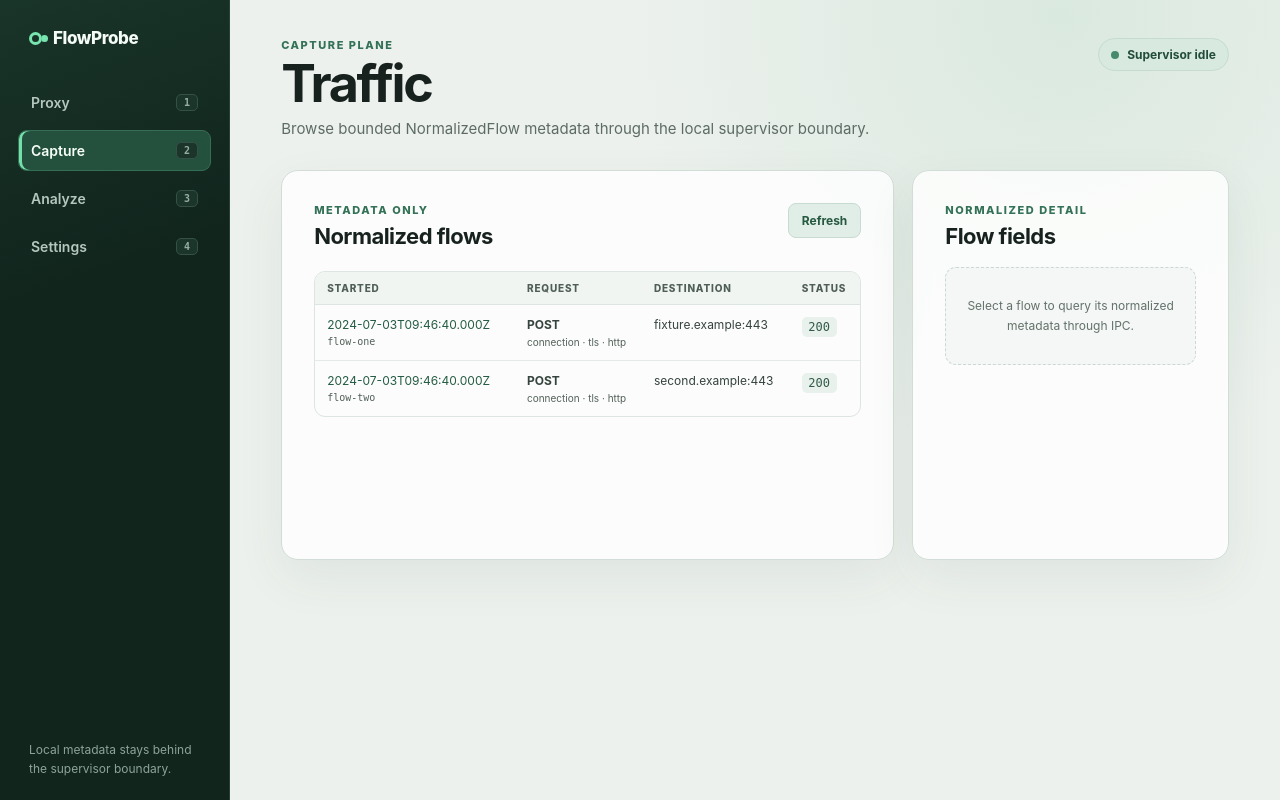
it: desktop shell behavior › keeps the newest detail when an older detail response arrives late
Click the button "2024-07-03T09:46:40.000Z flow-one".
click(412, 332)  # box x1=327 y1=317 x2=497 y2=347
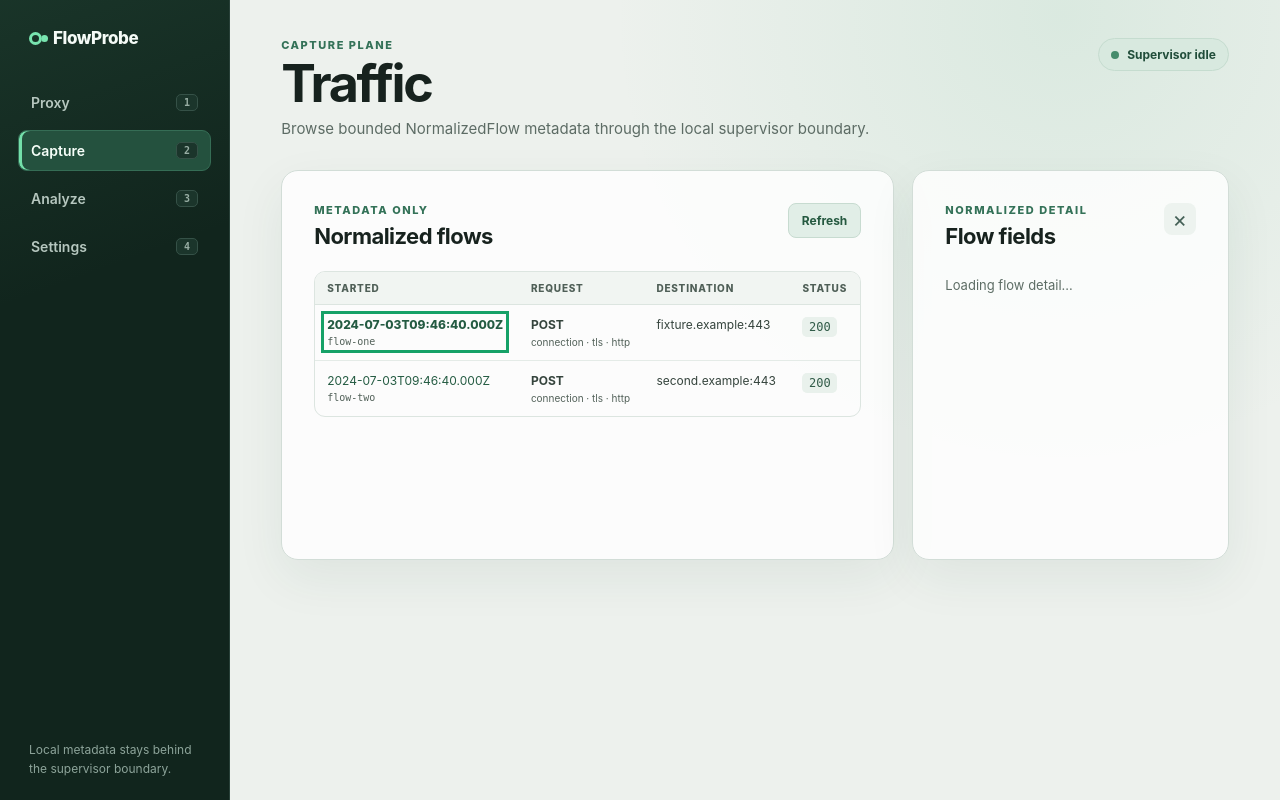
Click the button "2024-07-03T09:46:40.000Z flow-two".
click(412, 388)  # box x1=327 y1=373 x2=497 y2=403
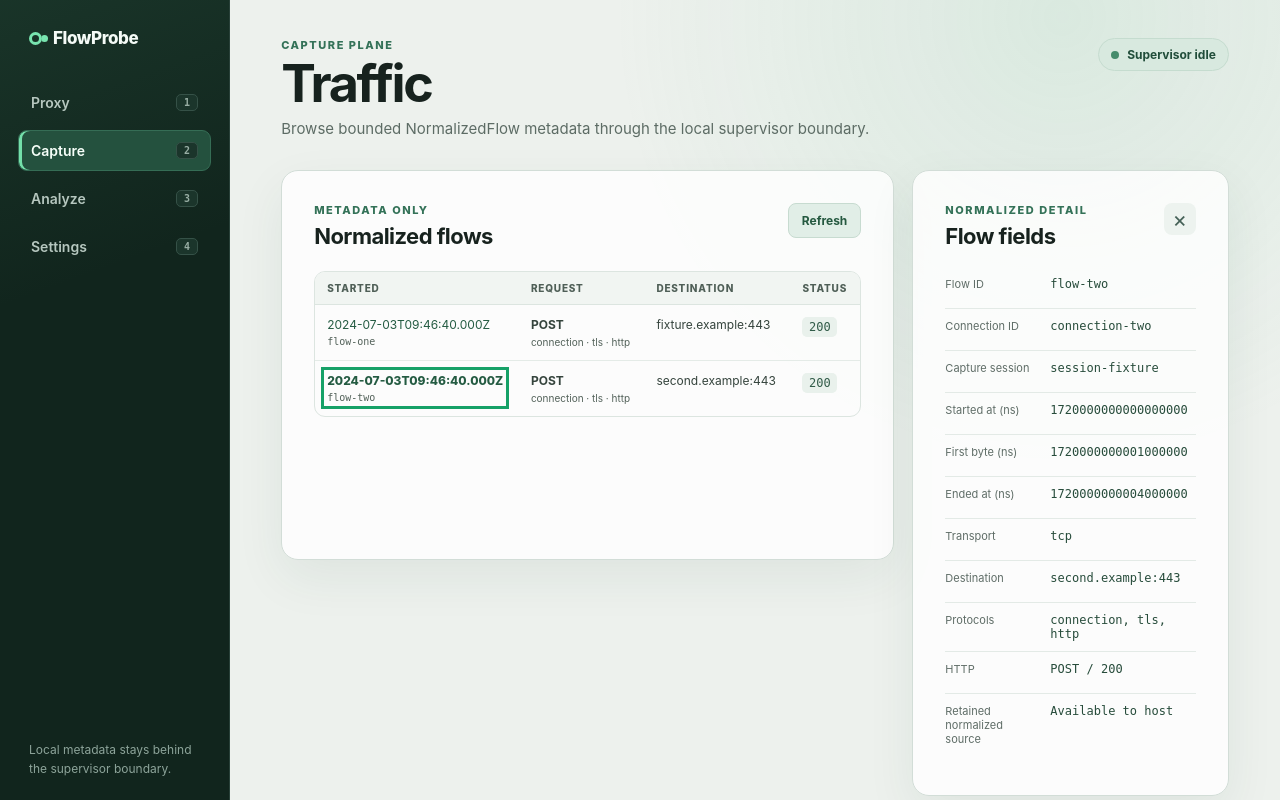
Expected: the text "connection-two" is shown, x1=1050 y1=319 x2=1152 y2=333
